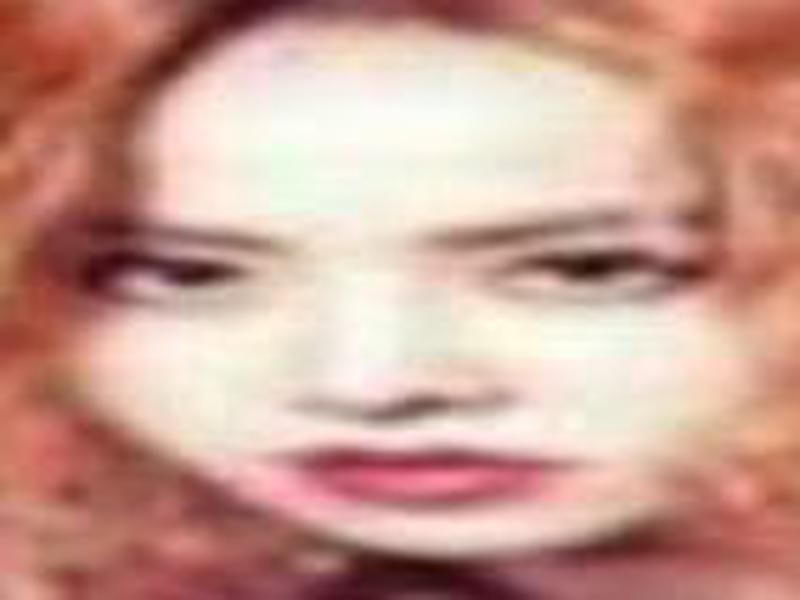without_mask: (49, 65, 748, 555)
